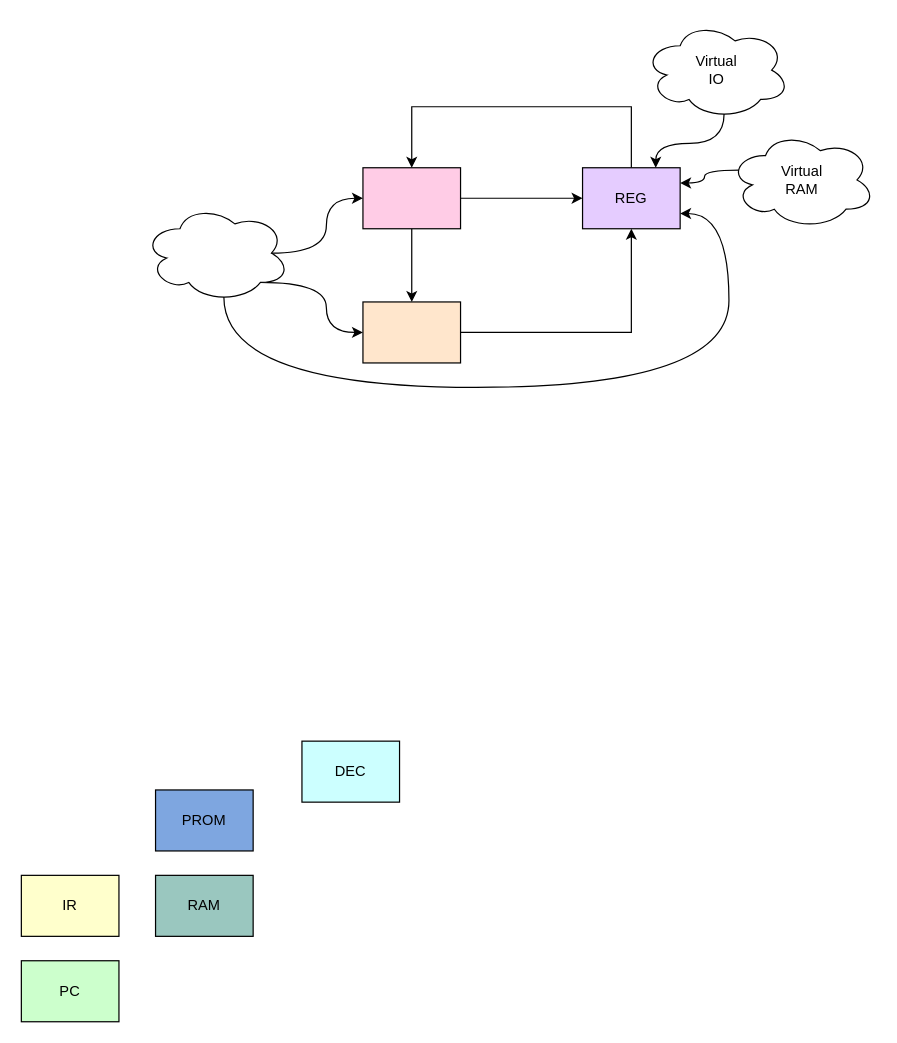
Some shapes in this 897 by 1043 pixel diagram are drawn without their labels. The centre of each missing label's shape, as x and y in pixels:
"ALU" goes at pixel 411 198.
"SREG" goes at pixel 411 332.
"Virtual CU" goes at pixel 216 252.
